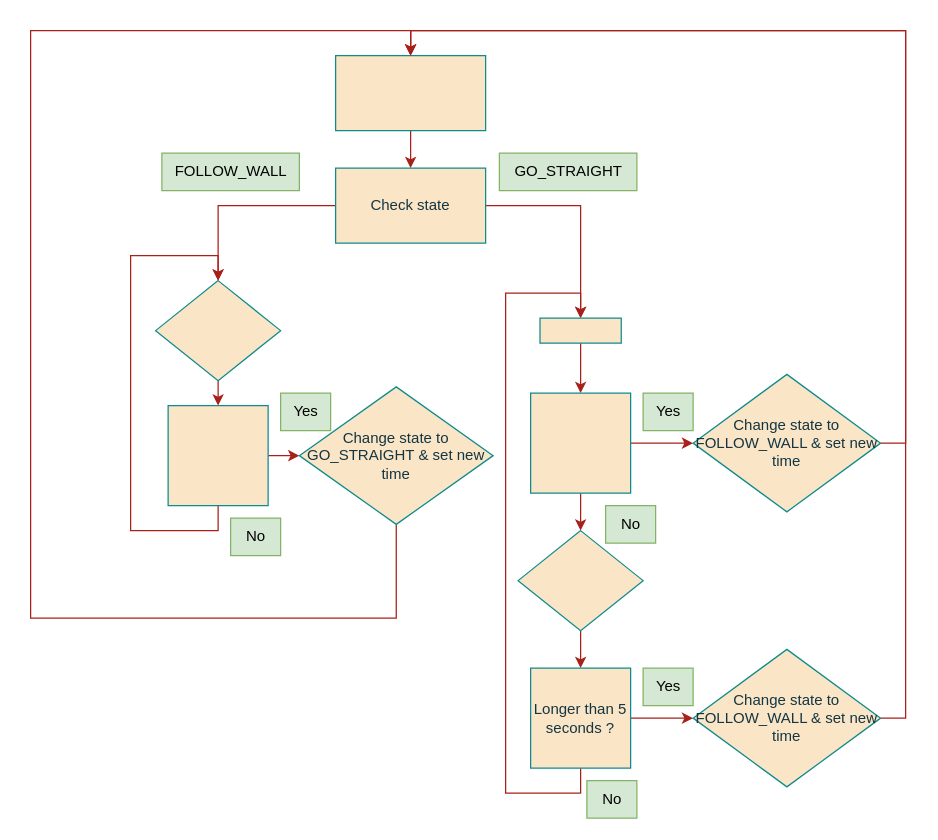
Some shapes in this 938 by 840 pixel diagram are drawn without their labels. Here are the shapes that lost their labels. From the top down, the centre of each, then its label:
[410,92]: Set current time
[217,330]: followWallLeft
[580,330]: Detection
[217,455]: Longer than lap time (+tolerance) ?
[580,442]: Something in front ?
[580,580]: forward
